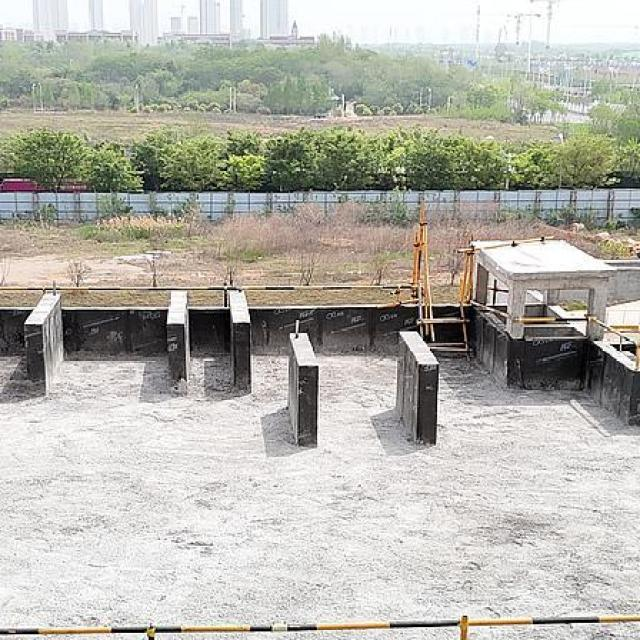edge_guardrail: (0, 613, 640, 640), (0, 281, 419, 309), (513, 313, 640, 367), (468, 300, 512, 320)
